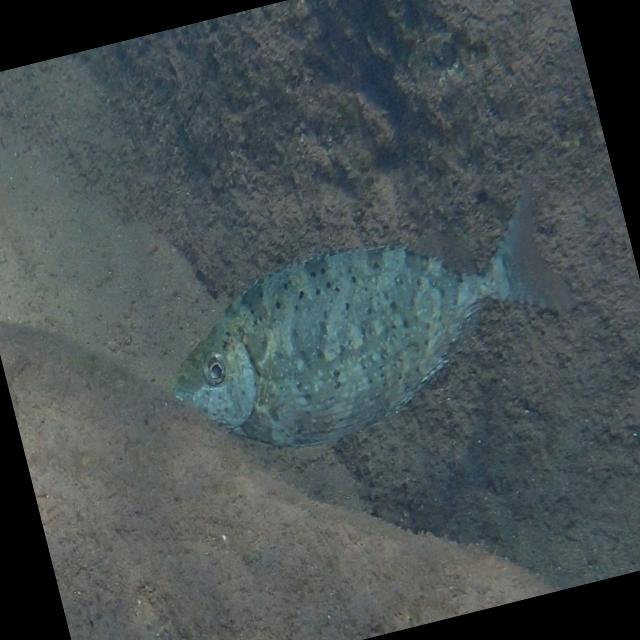Sokar Baligi: (119, 161, 606, 486)
